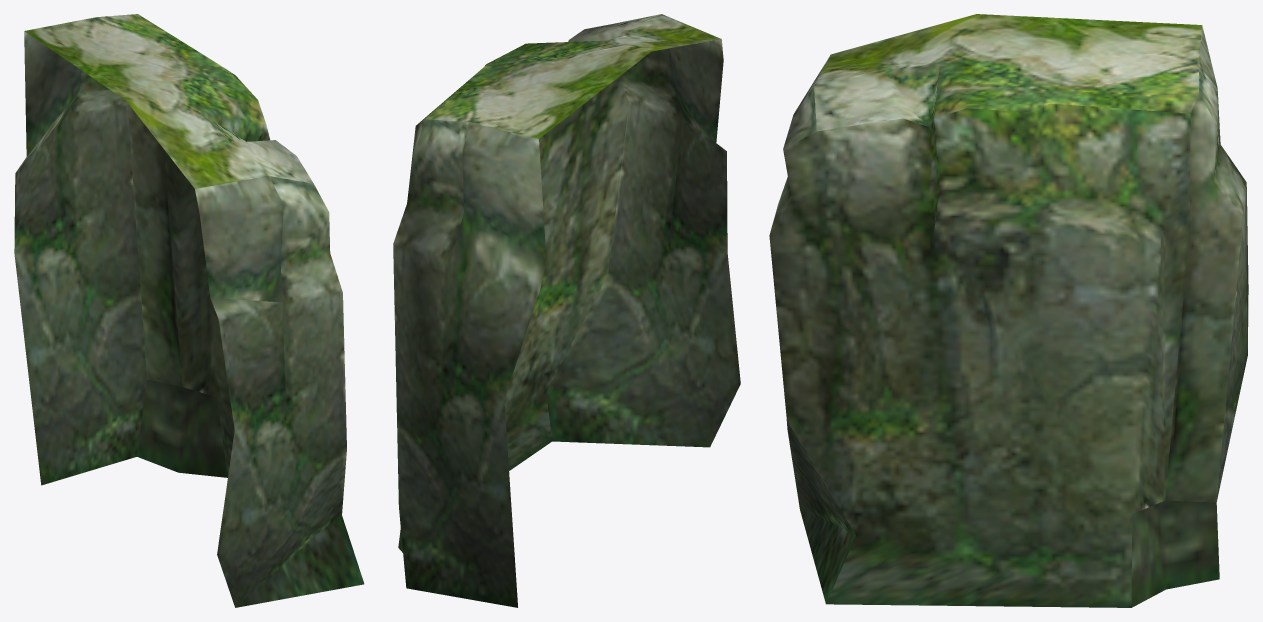
The model's file is S_Rock_Green048_1060_3.fbx.
3 renders of one model, left to right at view 1: azimuth 30°, elevation 25°; view 2: azimuth 150°, elevation 25°; view 3: azimuth 270°, elevation 25°, orthographic. The views are drawn at different scales.
Visible parts, largest first — view 1: S_Rock_Green048_1060_3; view 2: S_Rock_Green048_1060_3; view 3: S_Rock_Green048_1060_3.
Boxes of the visible parts, <box> form: S_Rock_Green048_1060_3: <box>14,14,364,607</box>; S_Rock_Green048_1060_3: <box>393,14,740,607</box>; S_Rock_Green048_1060_3: <box>769,14,1248,607</box>.
Size of the model in its own units: 802 by 2067 by 1783.
1 material, 1 textured.
